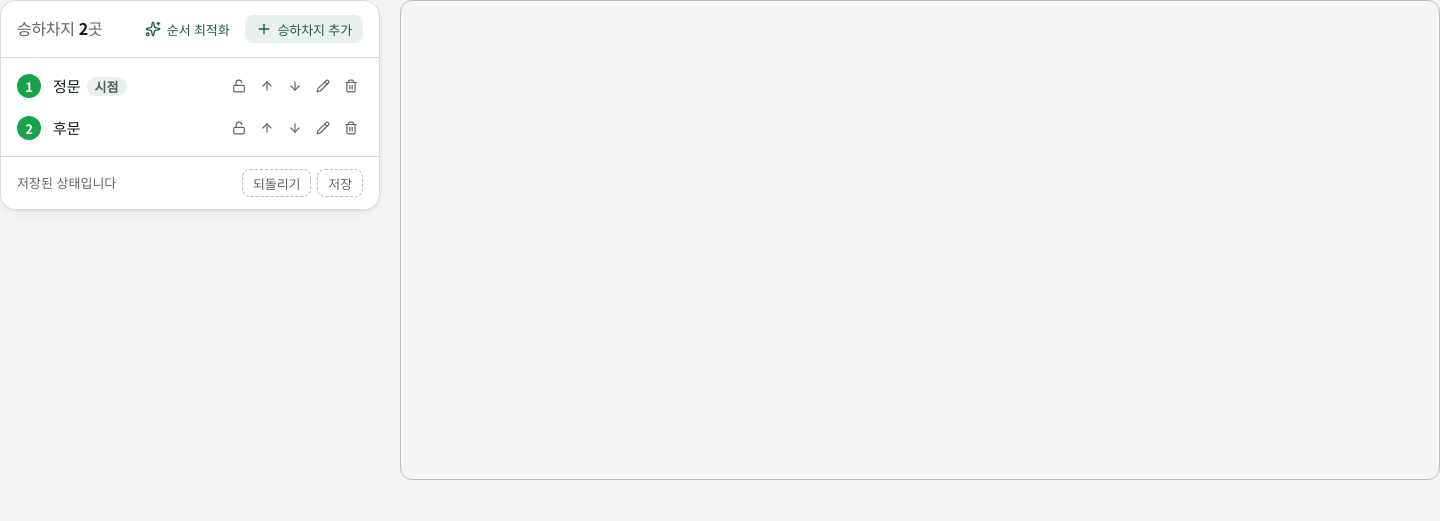
RouteStopsPanel — 저장 안 한 채 앱 안에서 떠날 때(뒤로·사이드바·로그아웃) › 변경이 있는 동안만 떠나기 전에 묻고, 저장하면 풀린다
This screenshot has width=1440, height=521.
Expected: the text "정문" is shown, [53,76,81,96]
Click the button named "후문 삭제": (351, 128) [337,114,365,142]
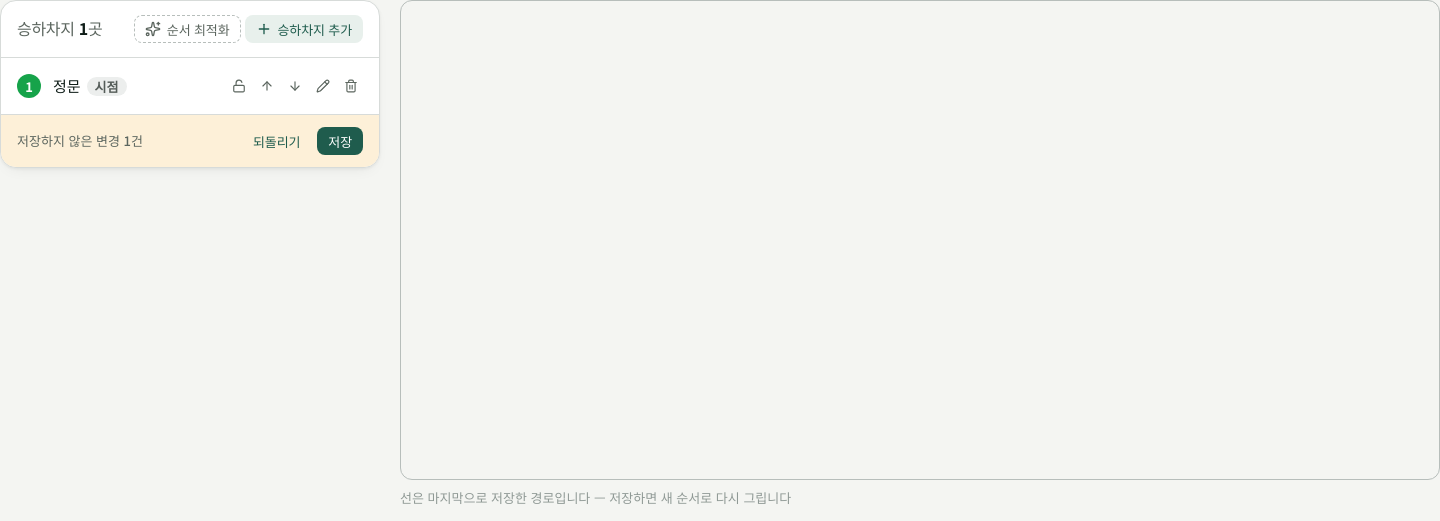
Click the button "저장": (340, 141) [317,127,363,155]
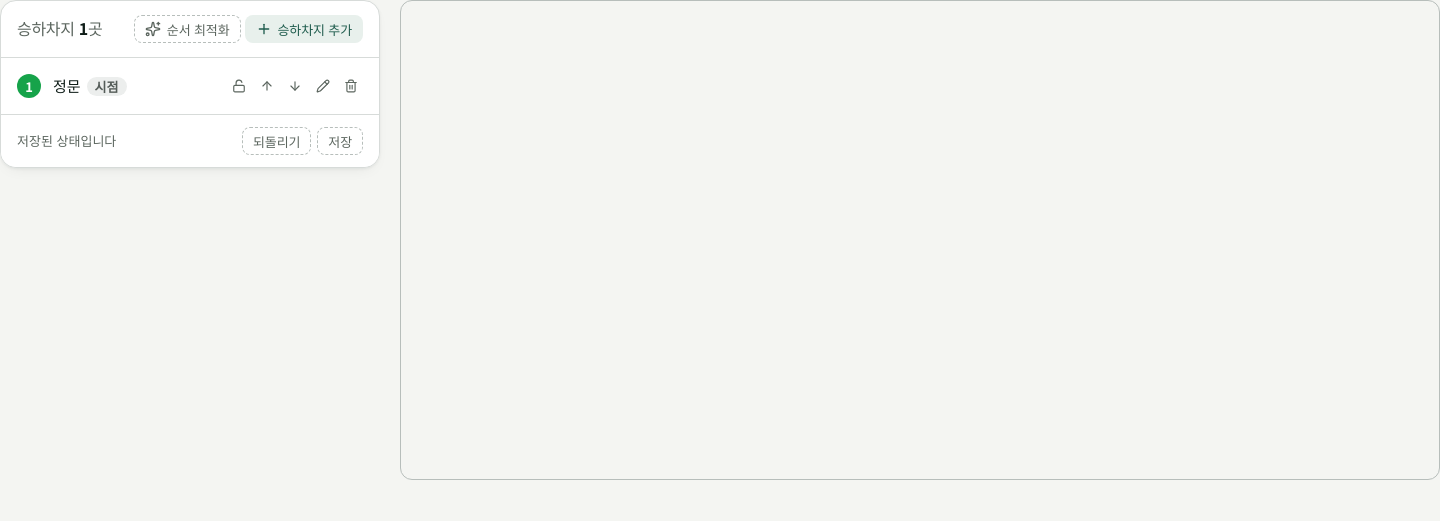
Expected: the text "저장된 상태입니다" is shown, [17,131,116,150]
